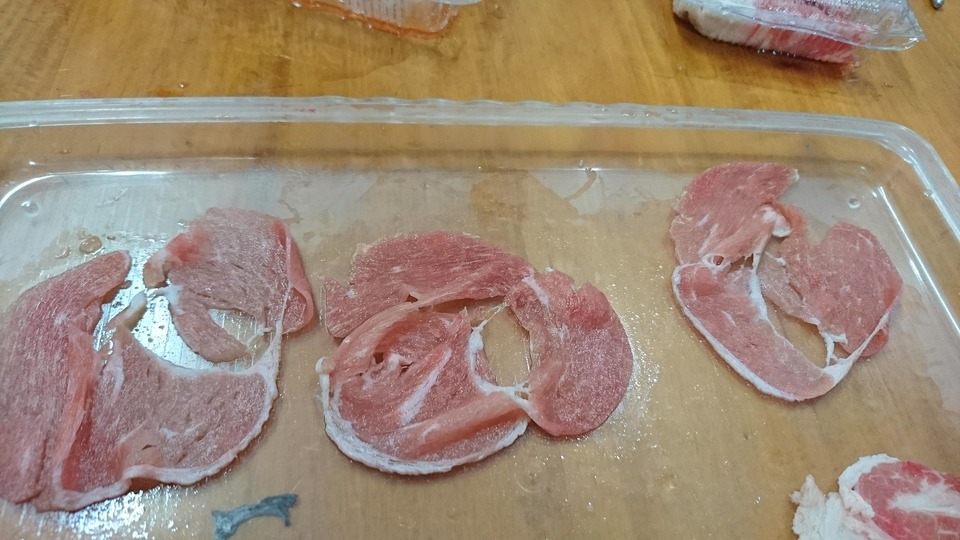restructured meat: (1, 210, 314, 509), (314, 220, 641, 468), (654, 155, 908, 411), (773, 437, 960, 537)
